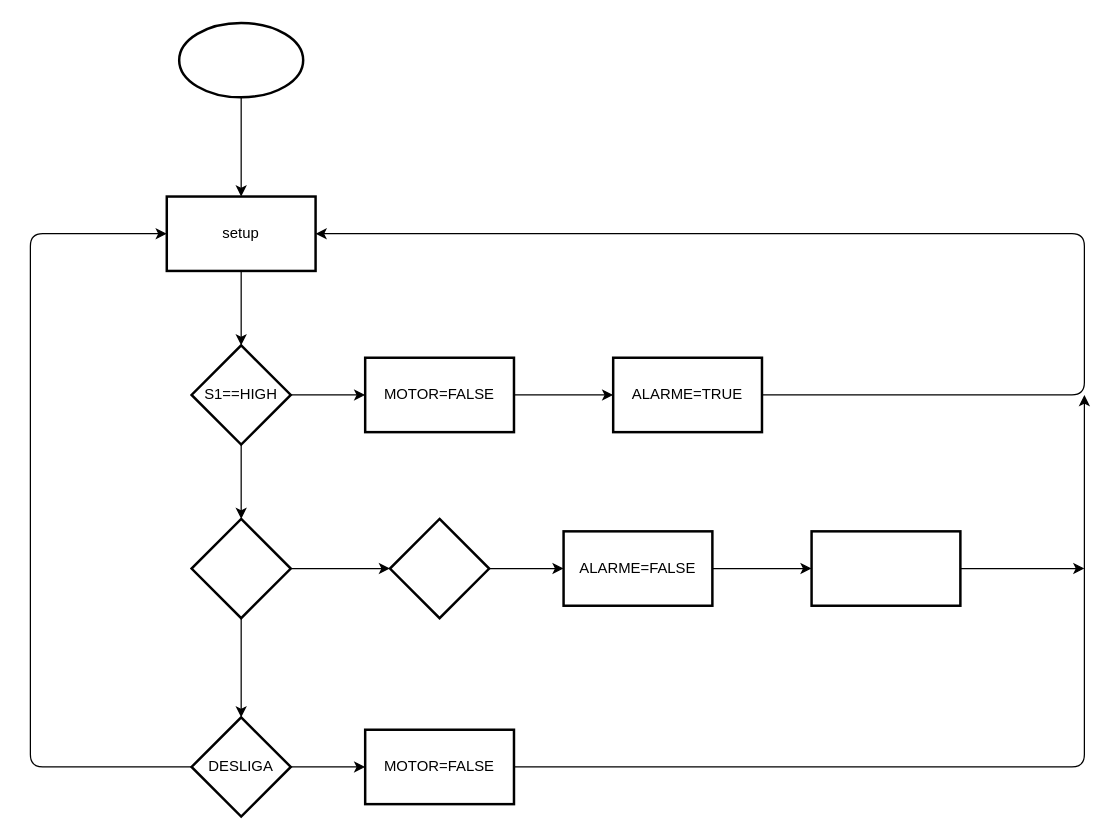
Some shapes in this 1116 by 838 pixel diagram are drawn without their labels. The centre of each missing label's shape, as x and y in pixels:
Início: the point at 240,59
LIGA: the point at 240,568
MOTOR=TRUE: the point at 885,567
S1==LOW: the point at 439,568
